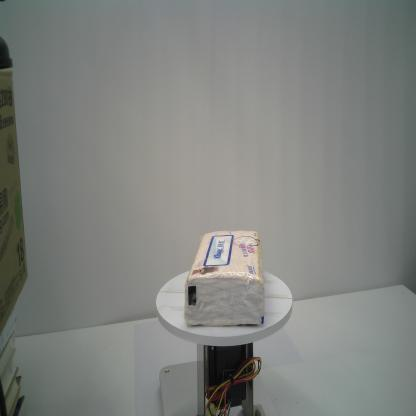Tissue: (184, 229, 268, 328)
